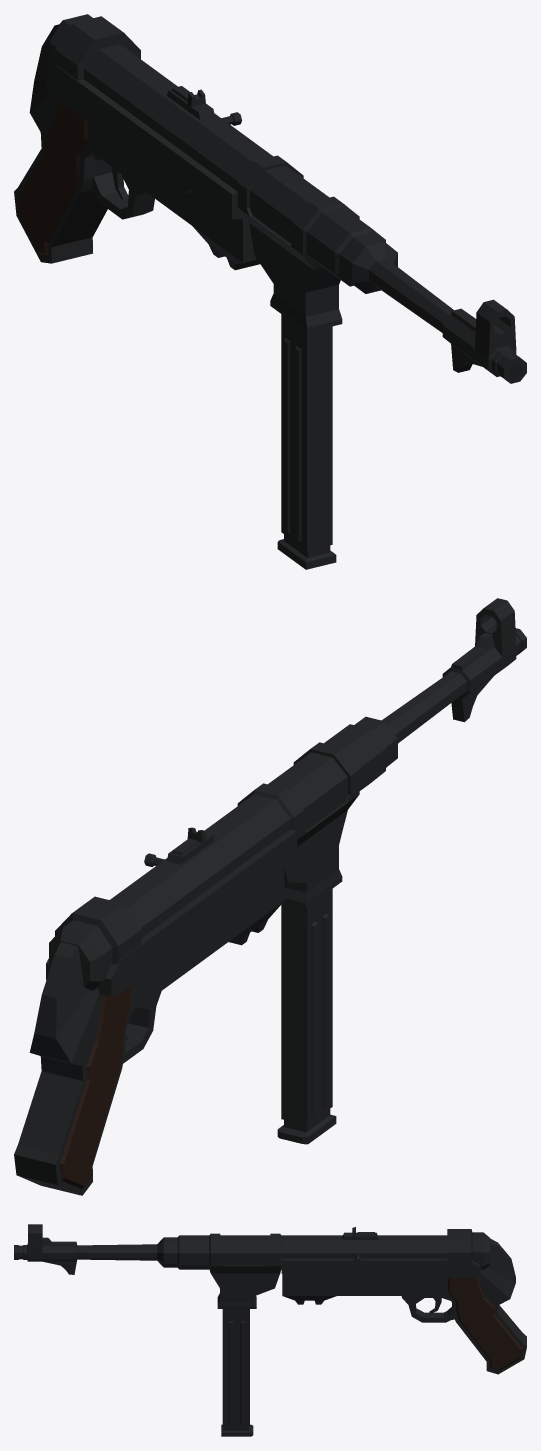
File: SubmachineGun.fbx
3 renders of one model, top to bottom at view 1: azimuth 30°, elevation 25°; view 2: azimuth 150°, elevation 25°; view 3: azimuth 270°, elevation 25°, orthographic. The views are drawn at different scales.
Visible parts, largest first — view 1: SubmachineGun; view 2: SubmachineGun; view 3: SubmachineGun.
Boxes of the visible parts, left/top/right/bottom form: SubmachineGun: left=14, top=14, right=526, bottom=569; SubmachineGun: left=14, top=598, right=526, bottom=1195; SubmachineGun: left=14, top=1224, right=526, bottom=1436.
Bounding box in the file's own units: 0.0801 × 0.3782 × 0.8497.
